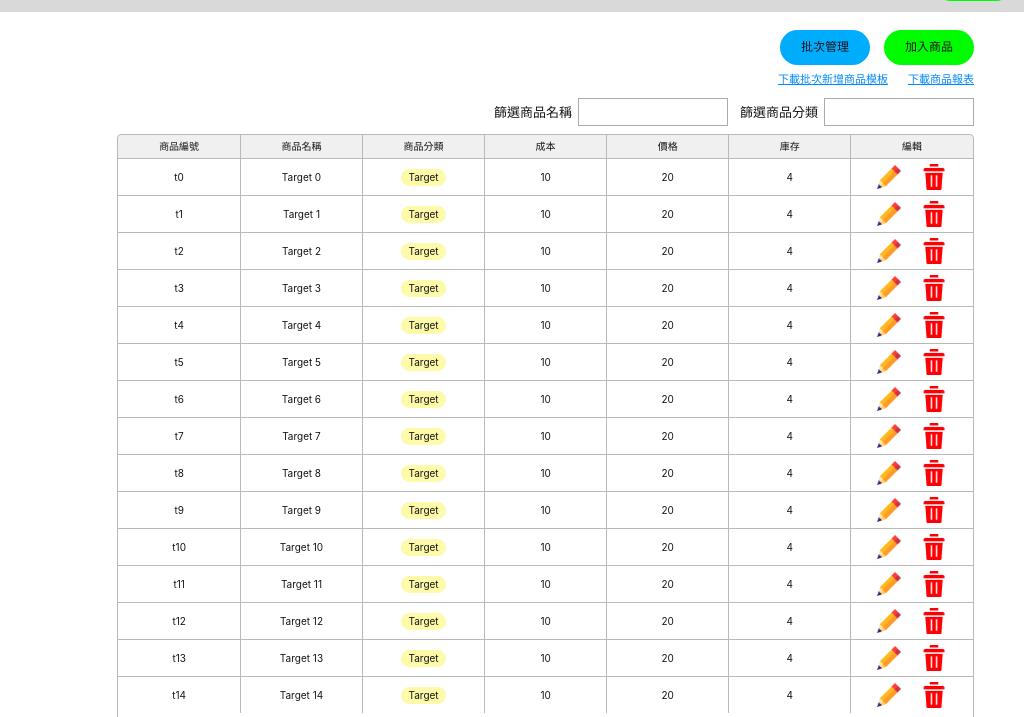
Test: ProductPage › clamps to the last filtered page after deleting its only product
Expected: the text "Target 0" is shown, [240,159,362,196]
Type "Target" into the search field labelled "篩選商品分類" at (899,112), box [824,98,974,126]
(page scrolled)
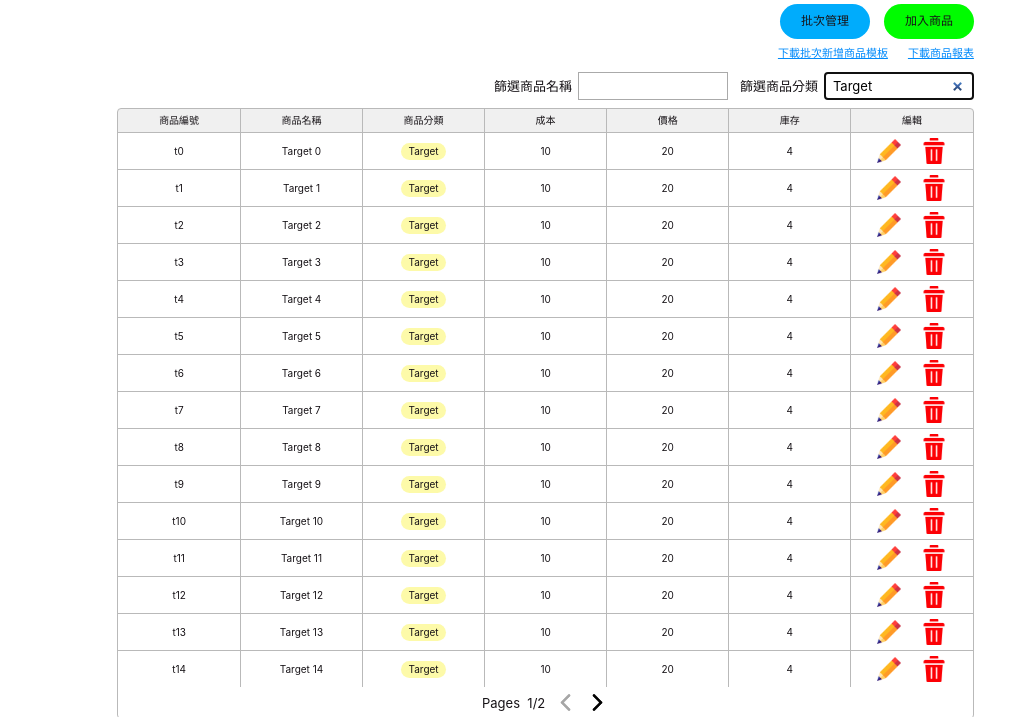
Click the button named "下一頁" at (597,703), box [585,691,609,715]
(page scrolled)
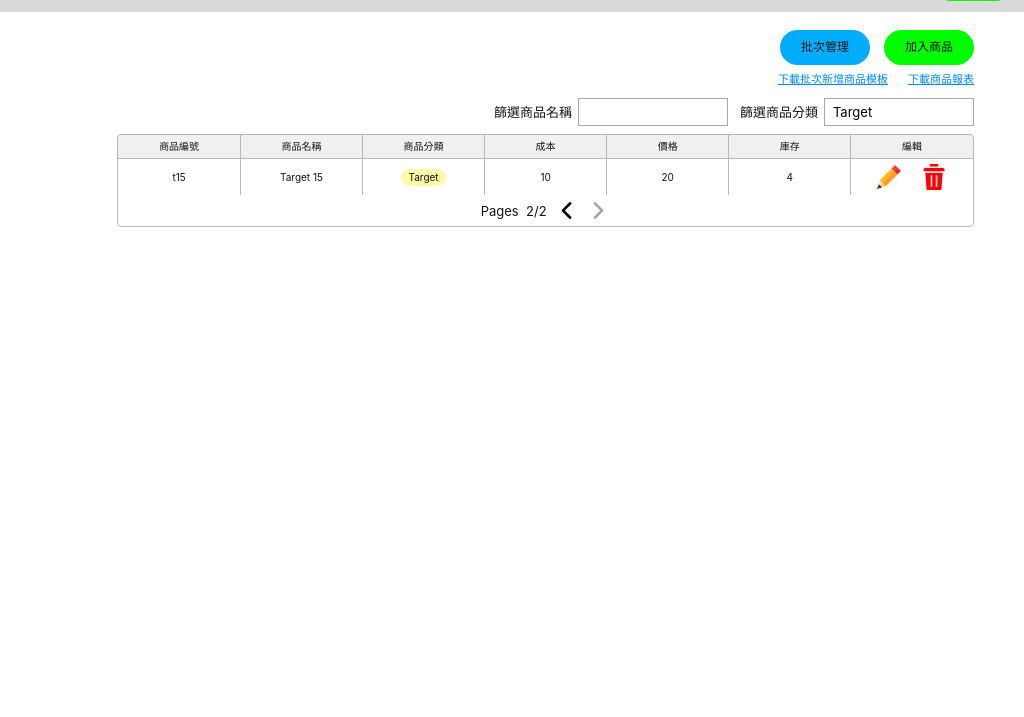
Expected: the text "Target 15" is shown, [240,159,362,195]
Click the button named "刪除商品 Target 15" at (934,177), box [921,164,947,190]
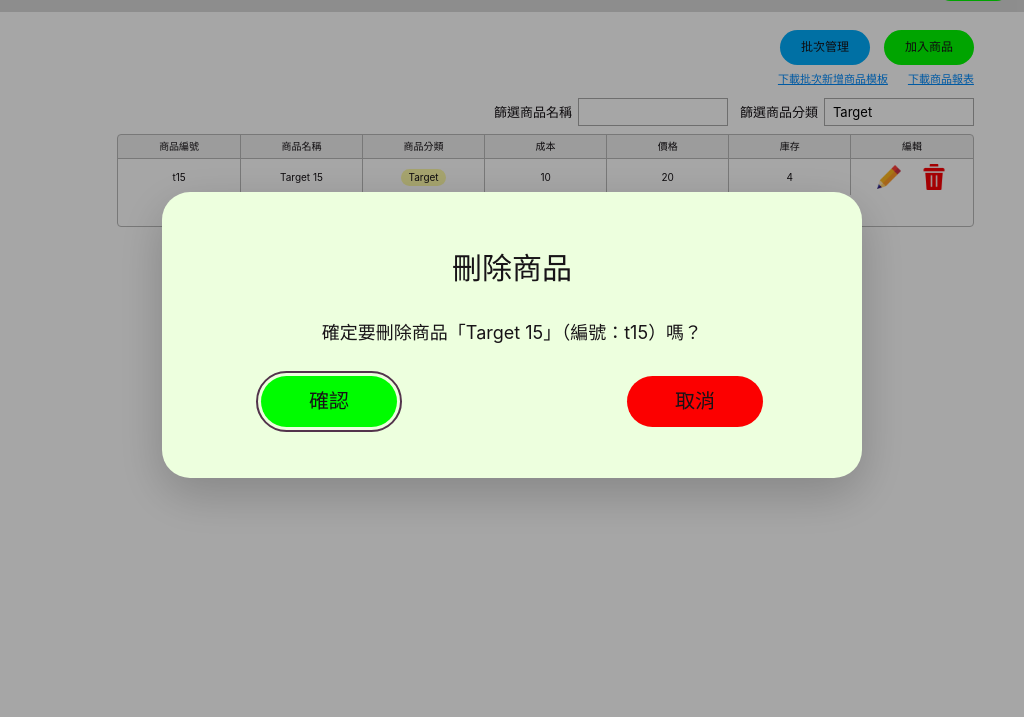
Expected: the dialog shows "t15", [624,322,648,342]
Click the button "確認" at (329,401), box [261,376,397,426]
(page scrolled)
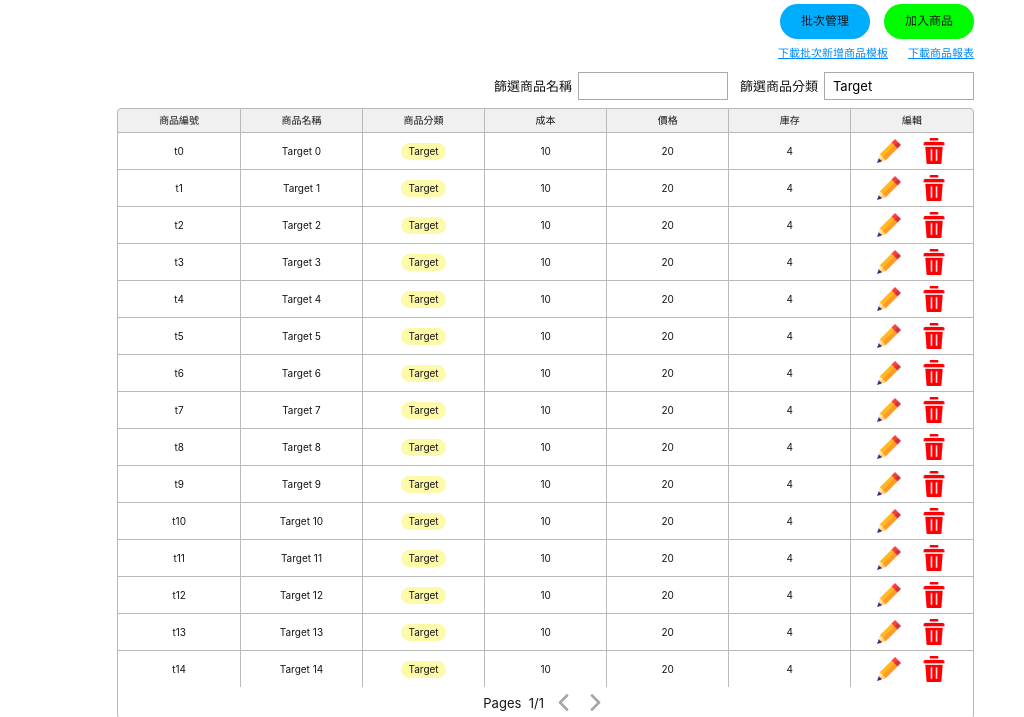
Expected: the text "Target 14" is shown, [240,651,362,687]
Expected: the dialog is gone
Expected: the text "Pages 1/1" is shown, [483,695,544,711]
